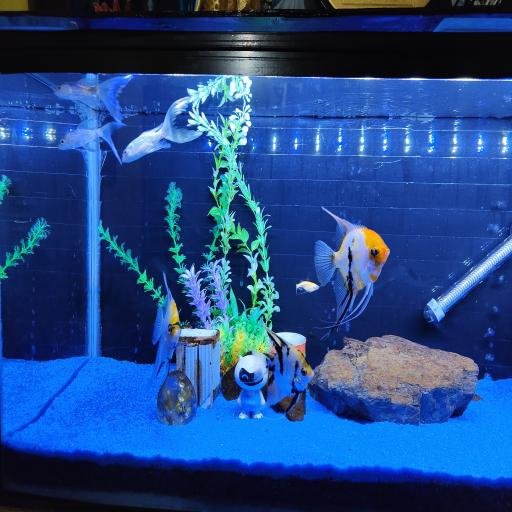Fish: (315, 207, 389, 338), (122, 97, 202, 162), (145, 273, 180, 392), (265, 327, 314, 412), (55, 75, 132, 122), (58, 120, 125, 164), (296, 281, 319, 294), (473, 395, 482, 401)
